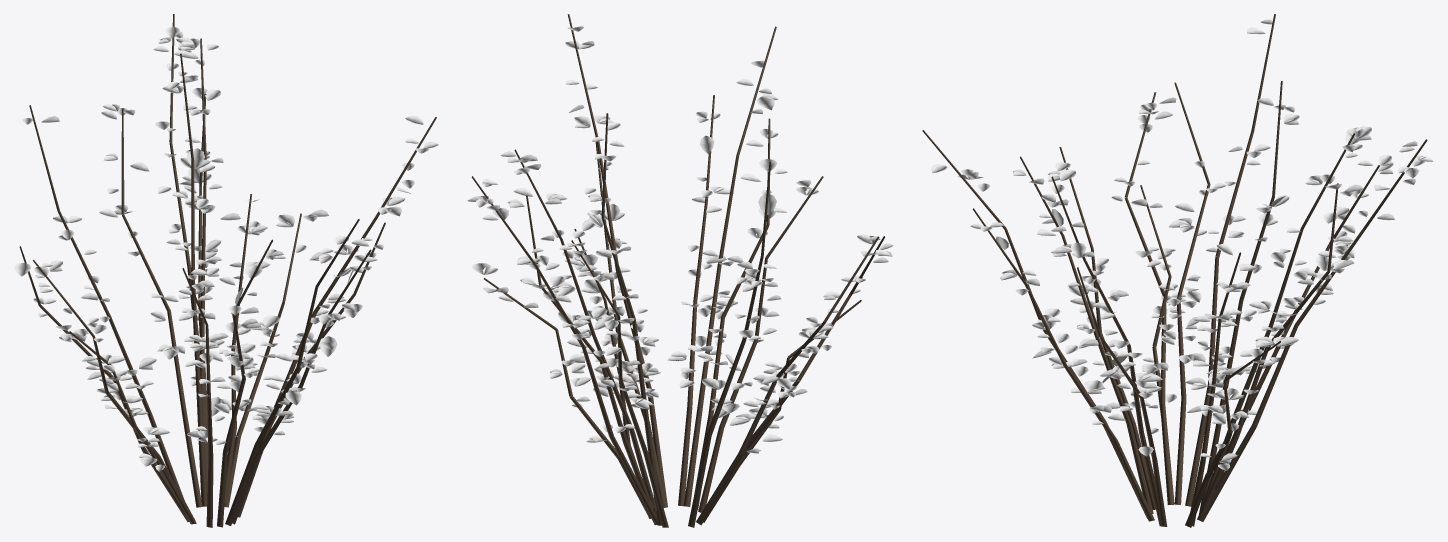
Rendered from ENV_shrub_LOD1.fbx.
The picture shows the model from 3 angles, left to right: view 1: azimuth 30°, elevation 25°; view 2: azimuth 150°, elevation 25°; view 3: azimuth 270°, elevation 25°; orthographic projection. The views are drawn at different scales.
Visible parts, largest first — view 1: X_shrub_LOD1; view 2: X_shrub_LOD1; view 3: X_shrub_LOD1.
Boxes of the visible parts, x1,y1,x2,y2 form: X_shrub_LOD1: (14, 14, 438, 527); X_shrub_LOD1: (467, 14, 893, 527); X_shrub_LOD1: (922, 14, 1433, 527).
Bounding box in the file's own units: 1.04 × 1.13 × 1.18.
